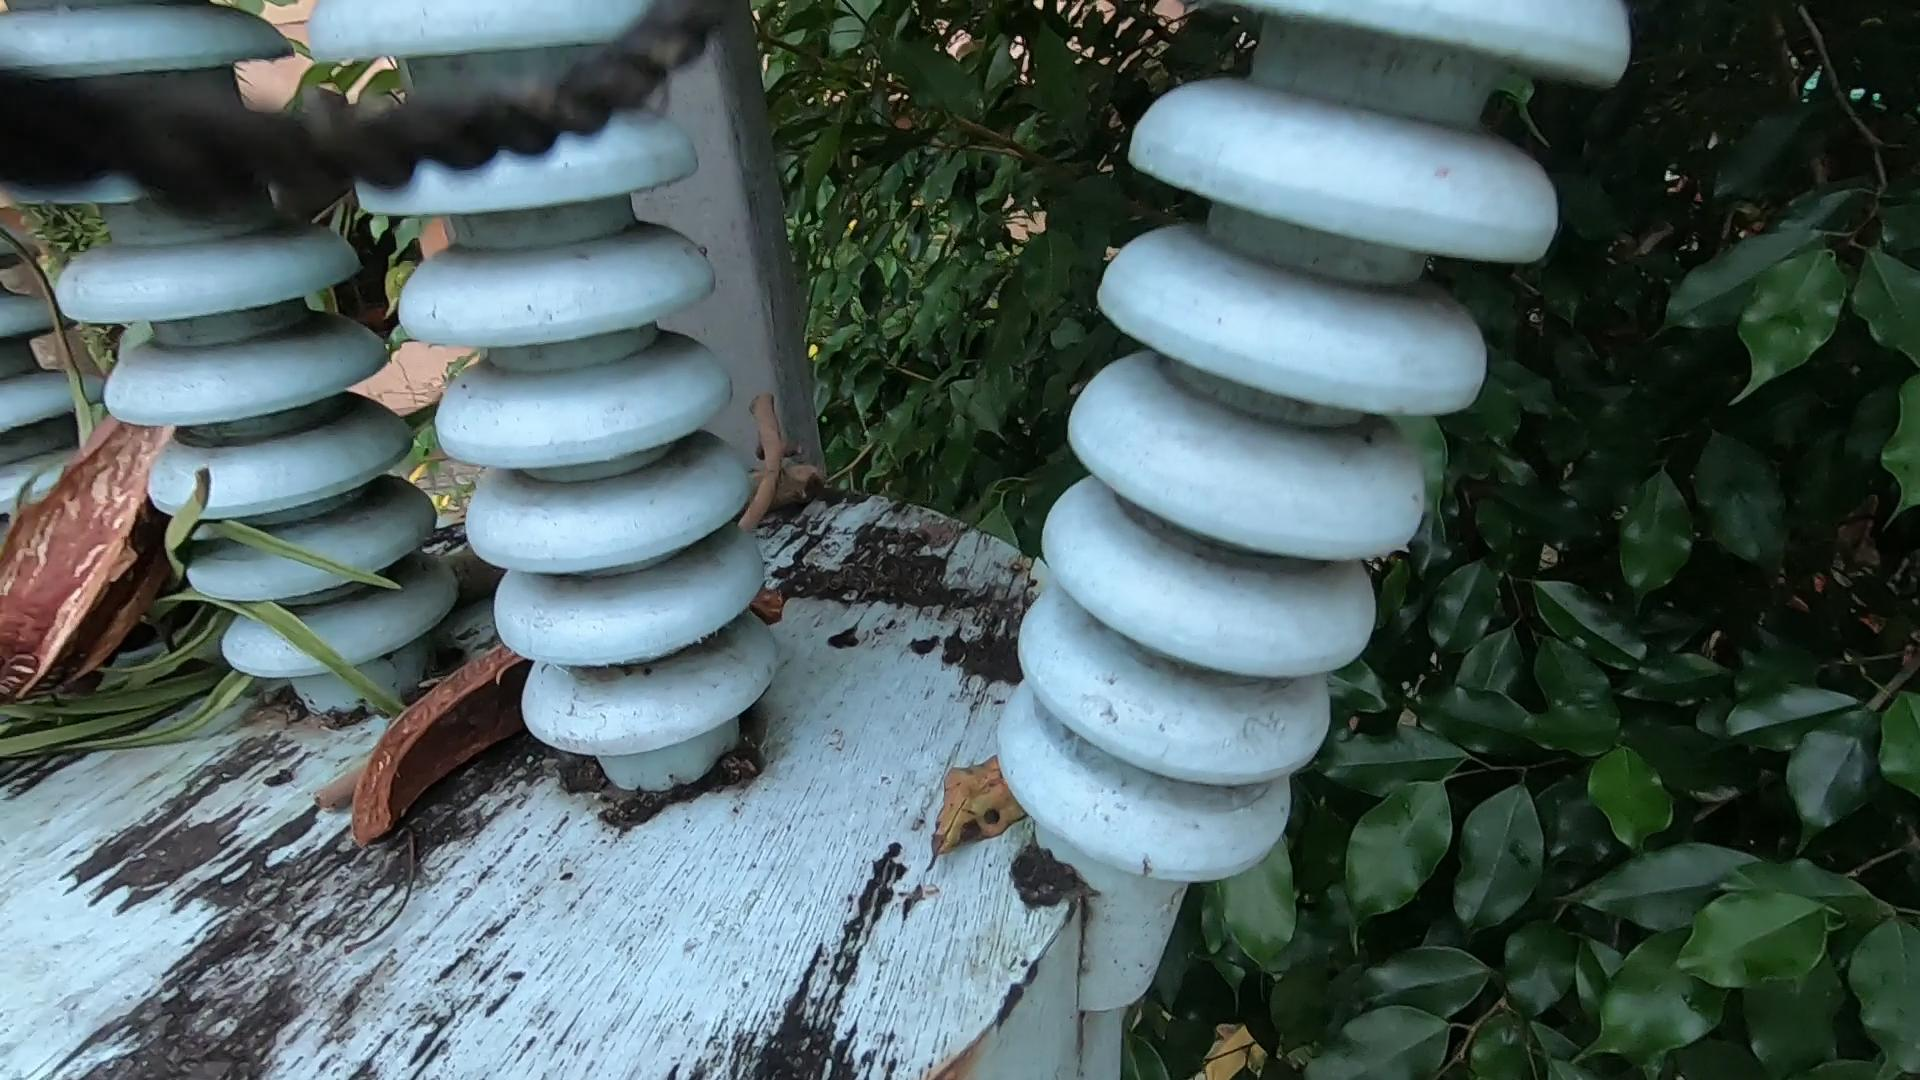branch with leaves: (1, 495, 608, 742)
leaf: (922, 692, 1044, 887)
mahogany fruit: (343, 574, 723, 1029), (45, 353, 203, 723)
tree branch: (731, 382, 796, 553), (313, 715, 385, 844)
